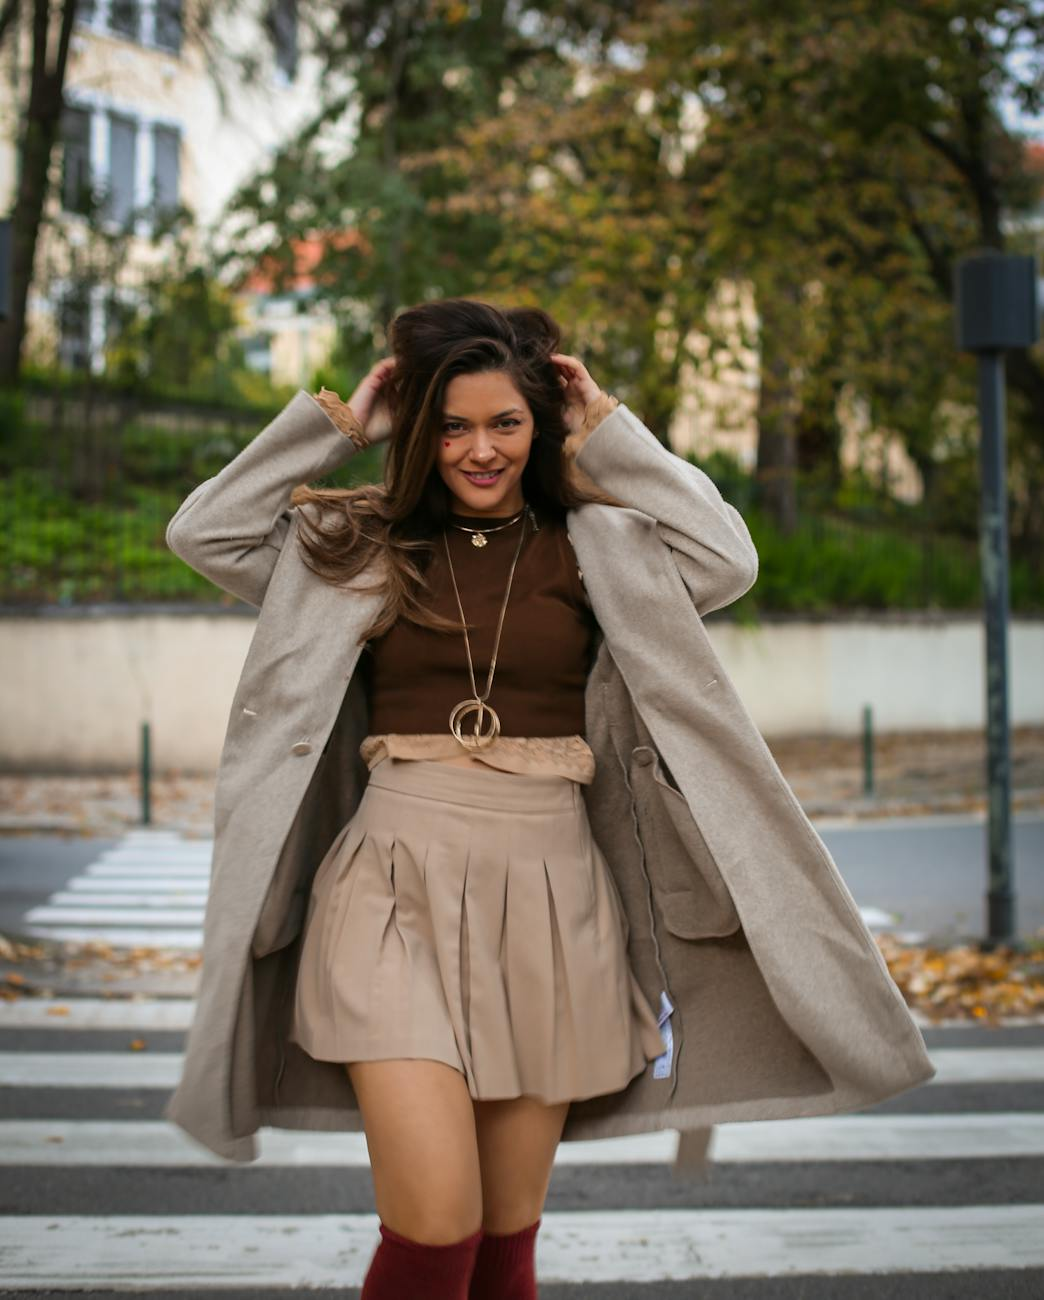short_medium_skirt: (273, 737, 666, 1096)
